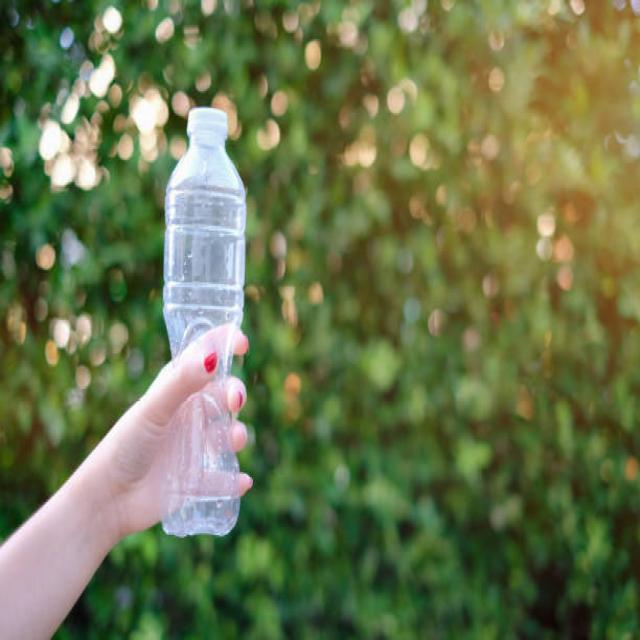plastic: (144, 109, 250, 538)
